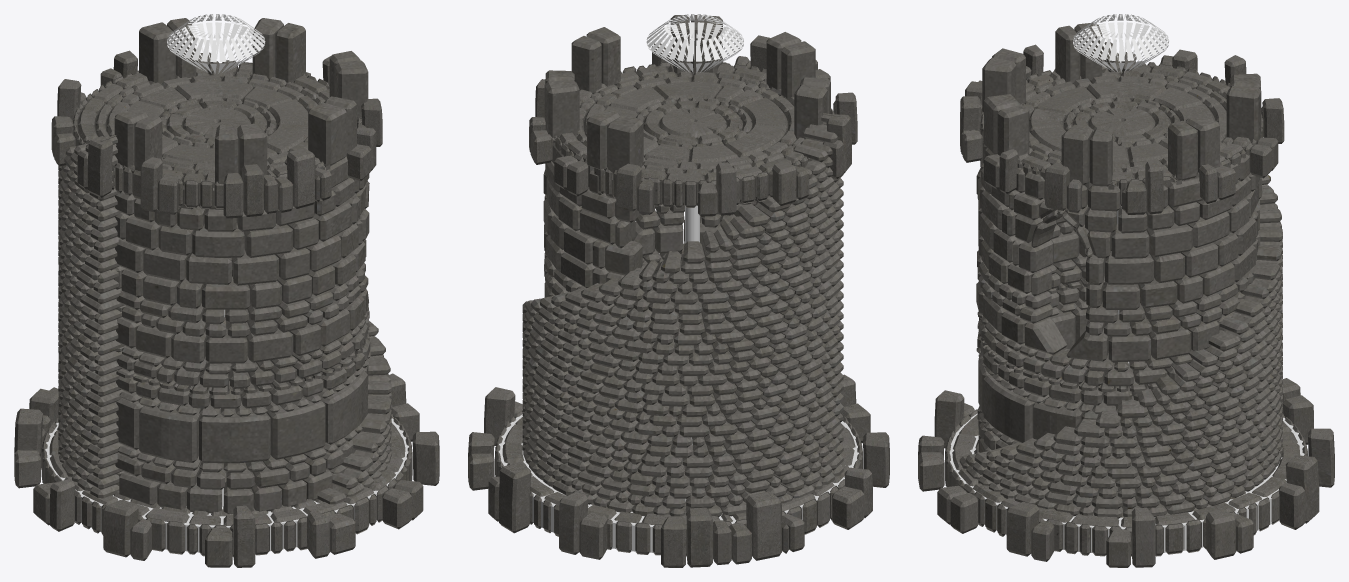
Rendered from tower 6.fbx.
3 views of the same model, side by side, from view 1: azimuth 30°, elevation 25°; view 2: azimuth 150°, elevation 25°; view 3: azimuth 270°, elevation 25° (orthographic). The views are drawn at different scales.
Parts seen in each view (by area): view 1: Wall.032, Wall.025, Wall.024, Diamond.002, Circle.006; view 2: Wall.032, Wall.025, Wall.024, Diamond.002, Circle.006; view 3: Wall.032, Wall.025, Wall.024, Diamond.002, Circle.006.
Boxes of the visible parts, x1,y1,x2,y2 form: Wall.032: (58, 18, 391, 513); Wall.025: (51, 50, 382, 218); Wall.024: (14, 373, 439, 567); Diamond.002: (167, 14, 265, 73); Circle.006: (45, 418, 408, 552); Wall.032: (522, 15, 843, 517); Wall.025: (529, 35, 857, 216); Wall.024: (468, 374, 889, 567); Diamond.002: (646, 14, 743, 73); Circle.006: (498, 414, 858, 552); Wall.032: (959, 22, 1282, 518); Wall.025: (960, 44, 1284, 214); Wall.024: (918, 378, 1334, 567); Diamond.002: (1073, 14, 1169, 72); Circle.006: (949, 413, 1304, 552).
Size of the model in its own units: 2806 by 3342 by 2807.
